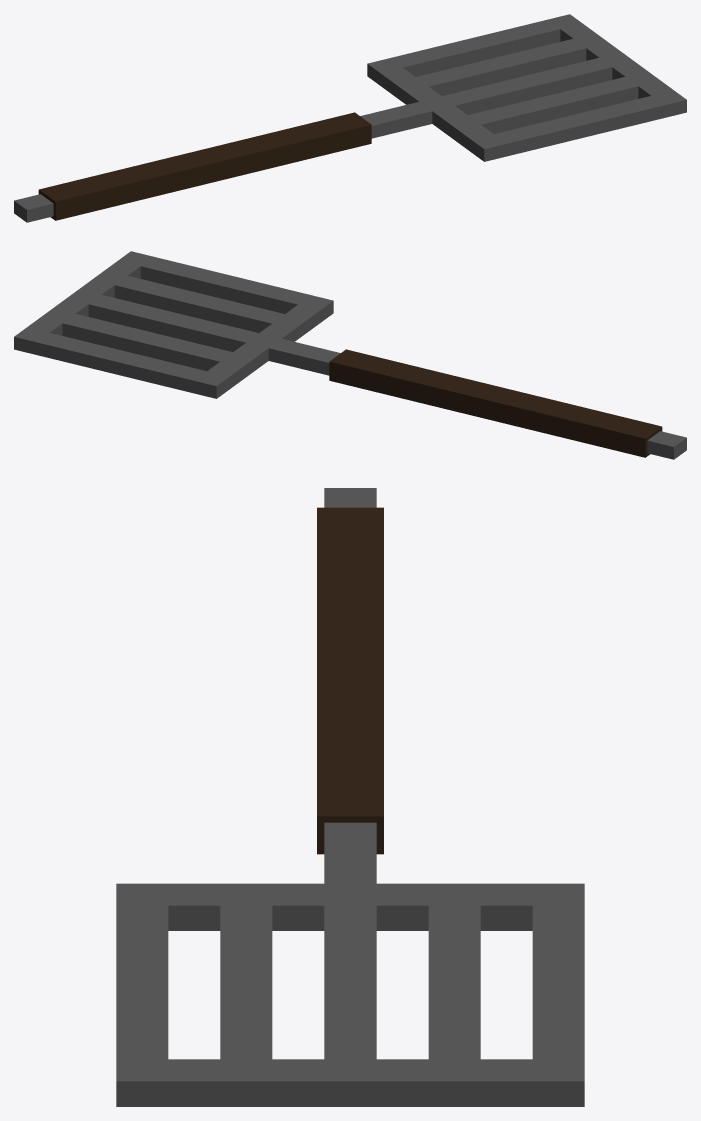
Rendered from spatula.fbx.
3 renders of one model, top to bottom at view 1: azimuth 30°, elevation 25°; view 2: azimuth 150°, elevation 25°; view 3: azimuth 270°, elevation 25°, orthographic. The views are drawn at different scales.
Parts seen in each view (by area): view 1: Spatula, Spatula handle; view 2: Spatula, Spatula handle; view 3: Spatula, Spatula handle.
Part boxes in pixels (bbox=[...]): Spatula: bbox=[14, 14, 686, 222]; Spatula handle: bbox=[38, 112, 371, 220]; Spatula: bbox=[14, 251, 686, 459]; Spatula handle: bbox=[329, 349, 662, 457]; Spatula: bbox=[116, 488, 584, 1106]; Spatula handle: bbox=[317, 507, 383, 854].
Size of the model in its own units: 60 by 1.8 by 20.
